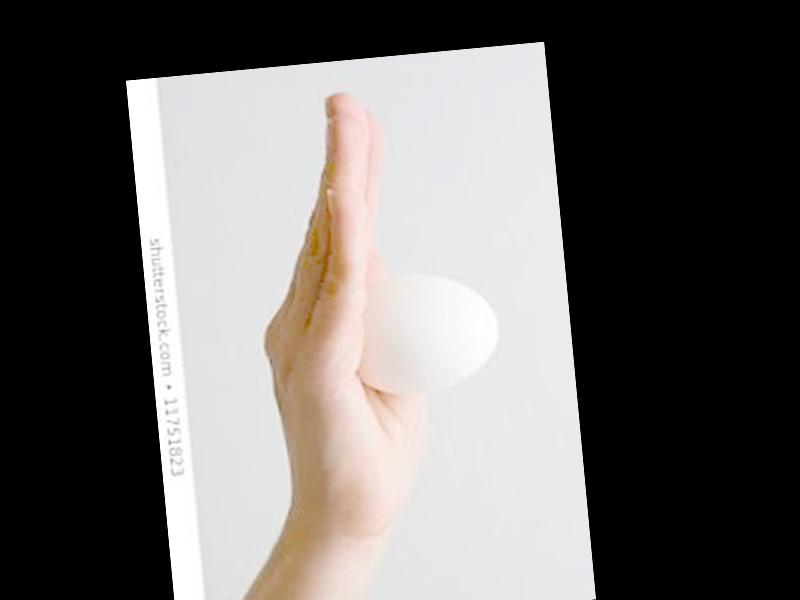Eggs: (348, 267, 501, 392)
